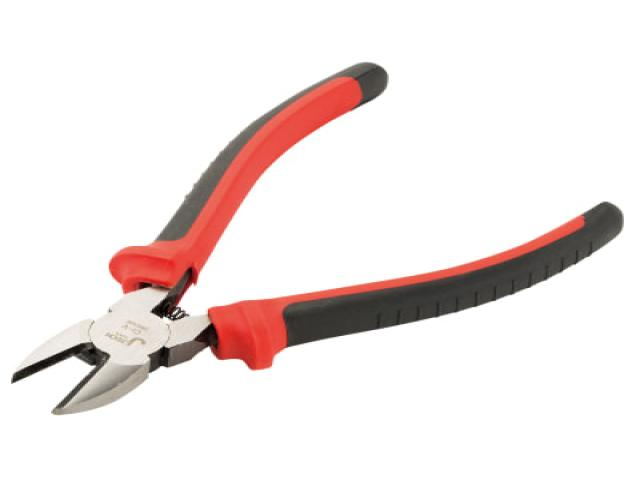Cutting pliers: (13, 63, 622, 415)
